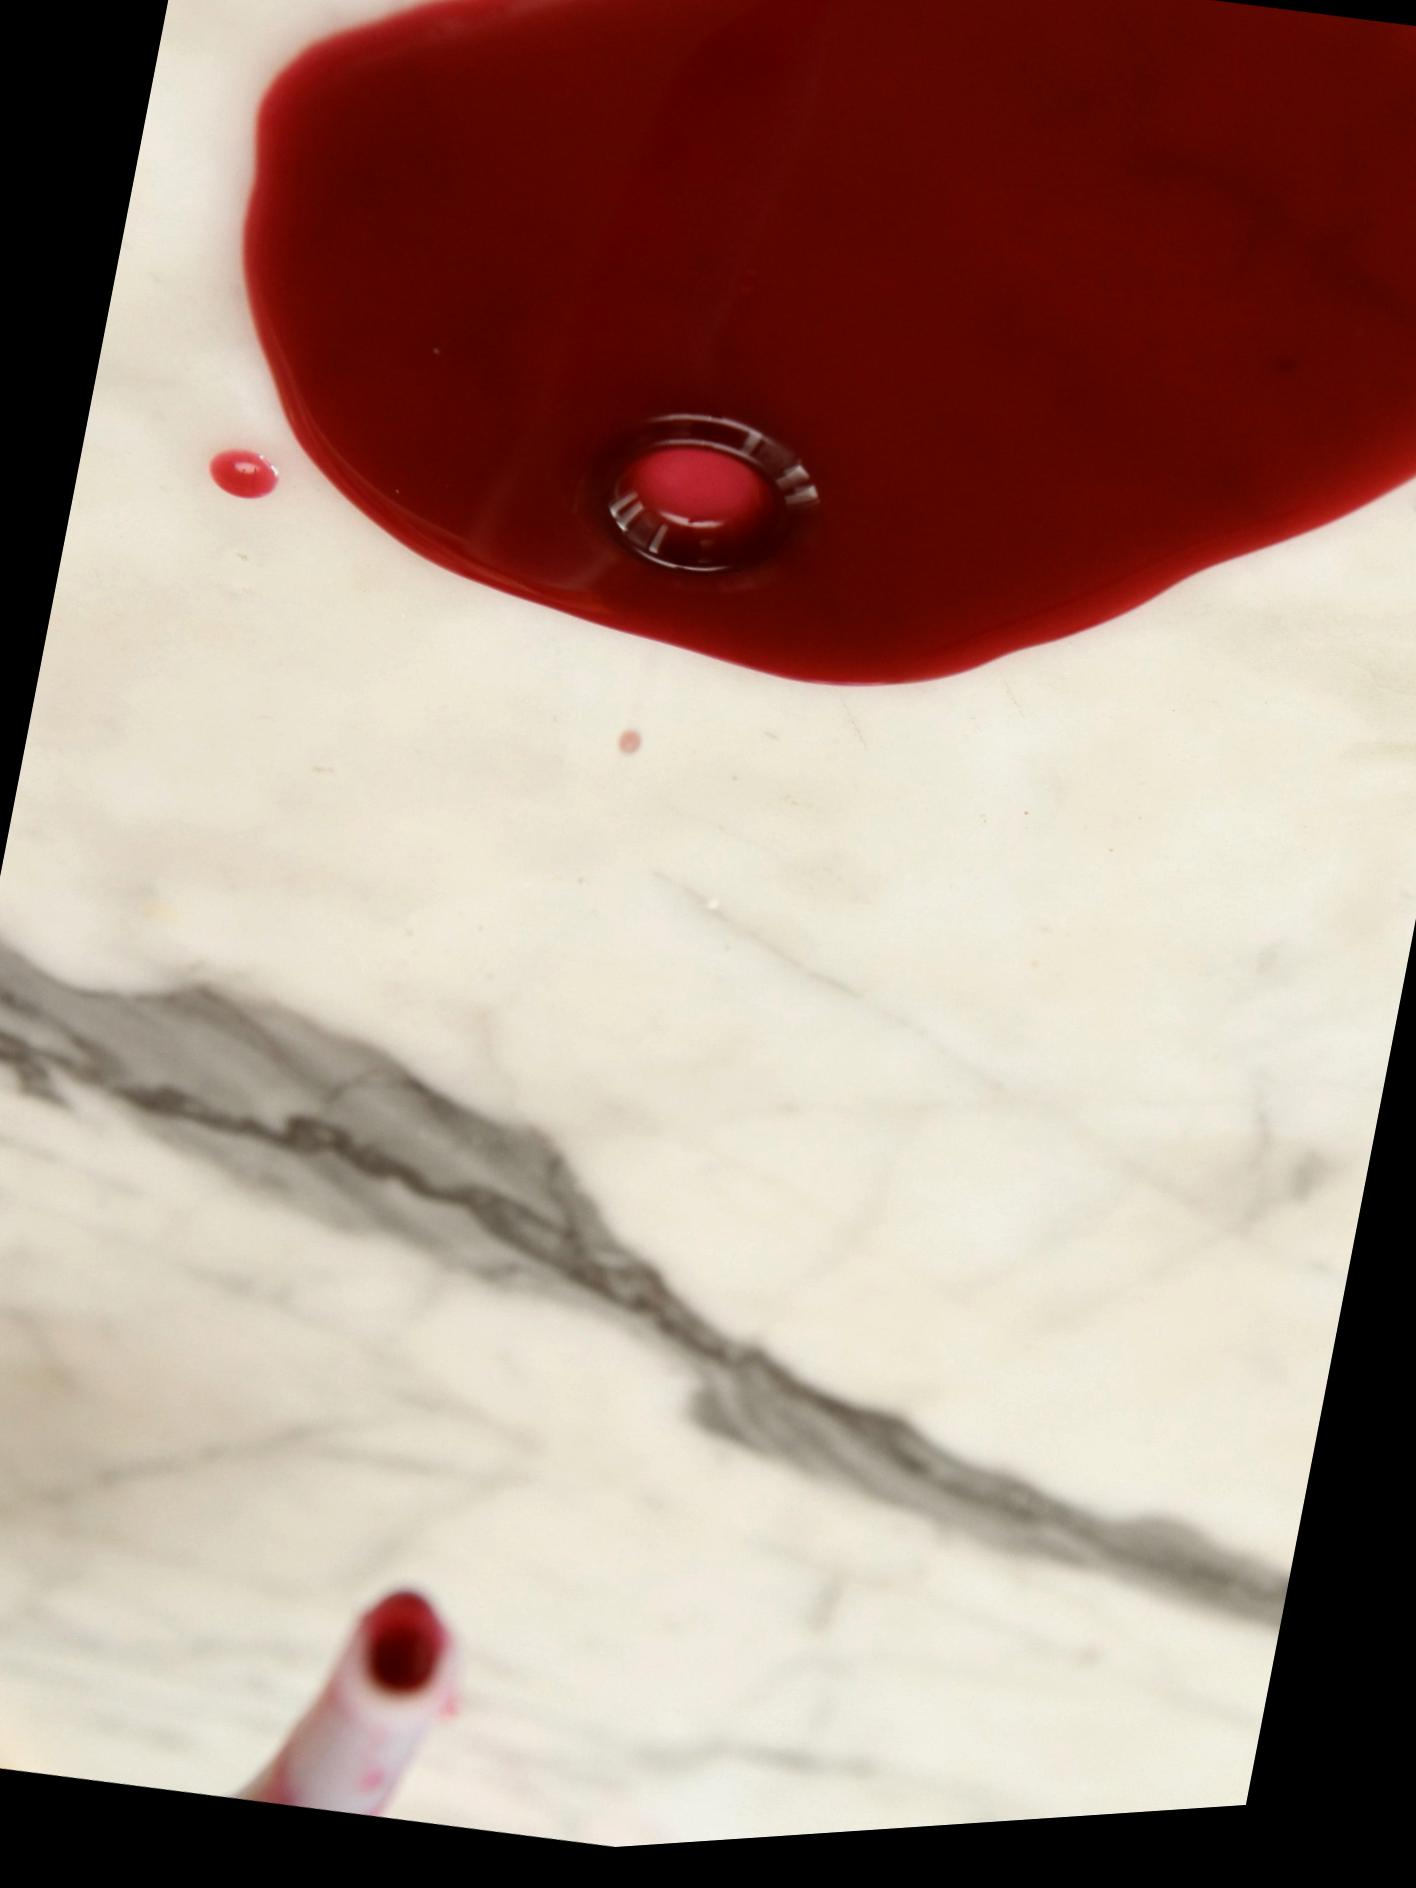Fire: (242, 0, 1416, 699), (208, 452, 278, 502)
